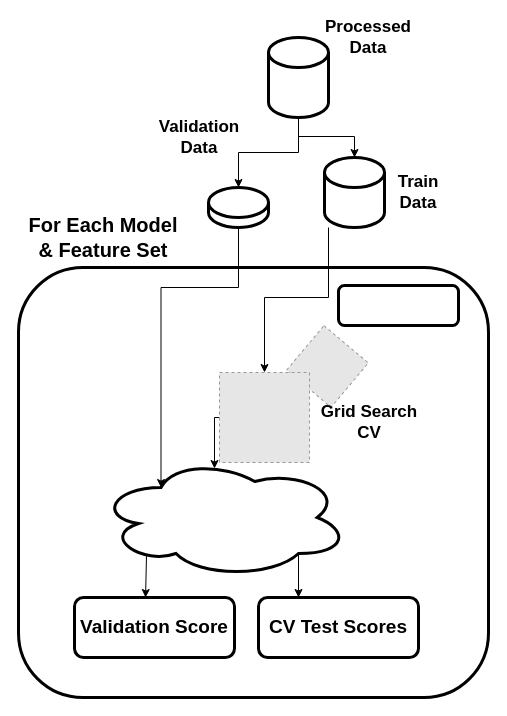
Image size: 507x716. Some labels were removed from this diagram. Grey dashed boxes stand in for pictures. Here are the shapes that lost their labels. From the top down, the box of each, then its label:
(336, 284, 460, 326): HyperParams
(96, 456, 350, 578): Best Model: Based on CV scores
